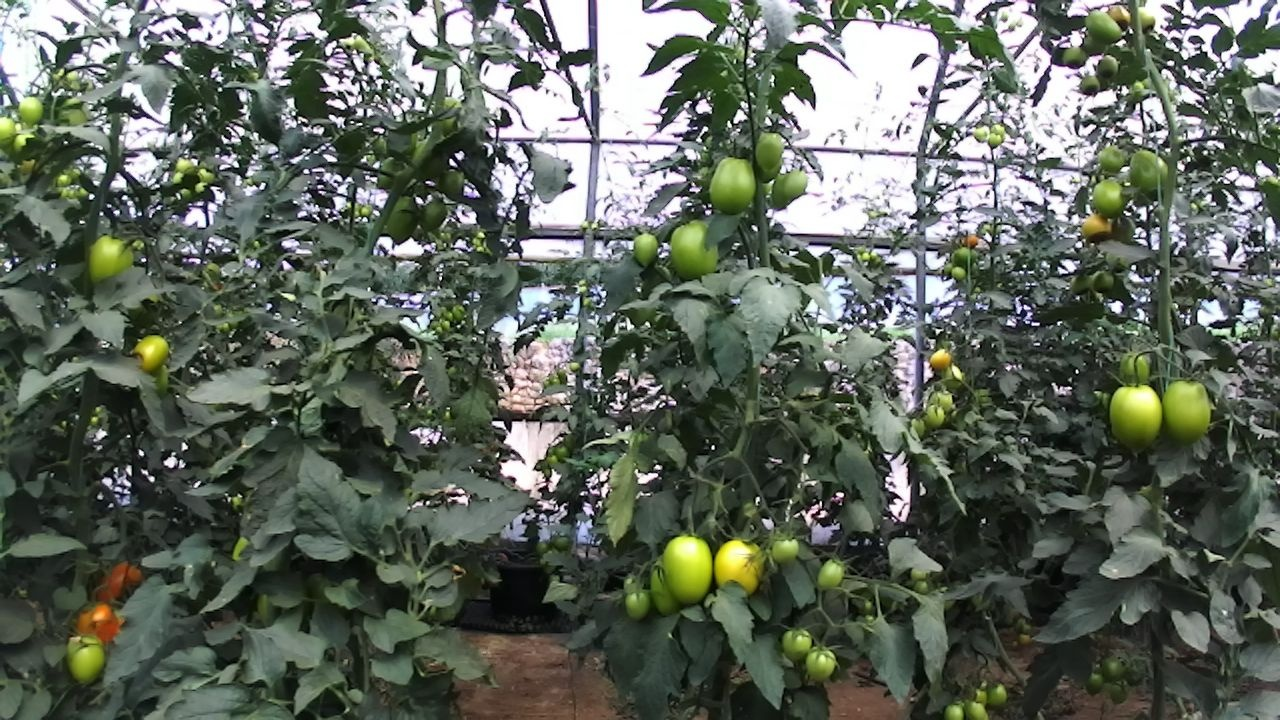tomato: (656, 208, 734, 298), (696, 144, 774, 225), (1104, 375, 1174, 464), (1155, 362, 1218, 460), (653, 528, 722, 612), (708, 528, 773, 605), (79, 221, 144, 294), (68, 592, 132, 656), (1121, 140, 1182, 207), (91, 552, 153, 616), (747, 118, 800, 185), (124, 322, 179, 384), (49, 82, 104, 144), (61, 630, 113, 693), (381, 186, 427, 252), (641, 554, 686, 621), (1113, 345, 1164, 400), (428, 87, 476, 145), (625, 224, 673, 276), (796, 638, 844, 685), (1088, 174, 1135, 222), (1083, 0, 1128, 50), (368, 148, 415, 195), (414, 188, 456, 239), (776, 622, 822, 668), (810, 551, 855, 597), (431, 159, 474, 206), (1075, 205, 1118, 249), (13, 87, 51, 134), (765, 528, 806, 570), (1091, 141, 1133, 179), (777, 162, 813, 206), (1106, 207, 1143, 248), (768, 166, 799, 214), (1077, 24, 1113, 60), (621, 587, 655, 625), (1123, 3, 1160, 37), (1103, 0, 1137, 35), (1098, 652, 1131, 687), (979, 678, 1013, 711), (1064, 268, 1098, 301), (1086, 265, 1120, 298), (1058, 42, 1093, 74), (0, 110, 25, 154), (925, 386, 955, 422), (1105, 675, 1135, 710), (938, 358, 967, 391), (1081, 667, 1110, 699), (921, 400, 950, 431), (926, 344, 956, 373), (938, 694, 971, 720), (547, 528, 576, 557), (961, 692, 991, 720), (1095, 51, 1122, 82), (947, 241, 975, 268), (1077, 70, 1103, 99), (193, 160, 219, 189), (958, 227, 984, 254), (969, 120, 993, 145), (172, 153, 197, 177), (986, 119, 1008, 143), (531, 536, 553, 560), (54, 169, 75, 192), (552, 442, 573, 464), (983, 130, 1003, 152), (543, 450, 563, 471), (948, 263, 968, 283), (565, 358, 585, 375), (358, 202, 375, 220), (859, 247, 874, 266)
